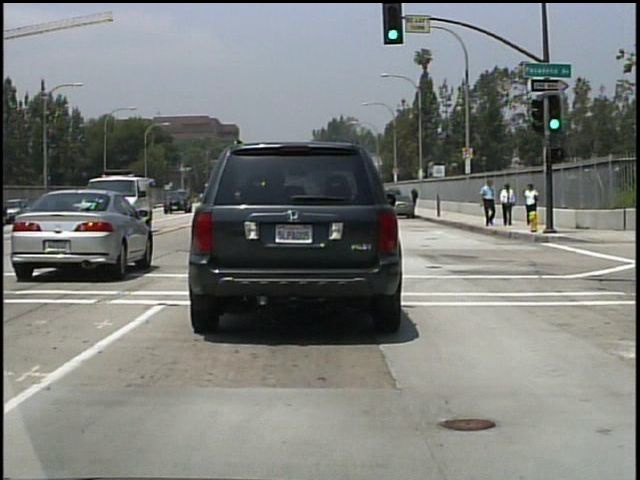person: (480, 179, 499, 232), (499, 180, 518, 227), (523, 181, 540, 213), (410, 187, 421, 210)
